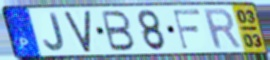8: (136, 8, 167, 52)
B: (100, 10, 137, 53)
F: (171, 8, 202, 51)
J: (42, 12, 66, 52)
R: (201, 7, 244, 51)
V: (62, 9, 93, 54)
